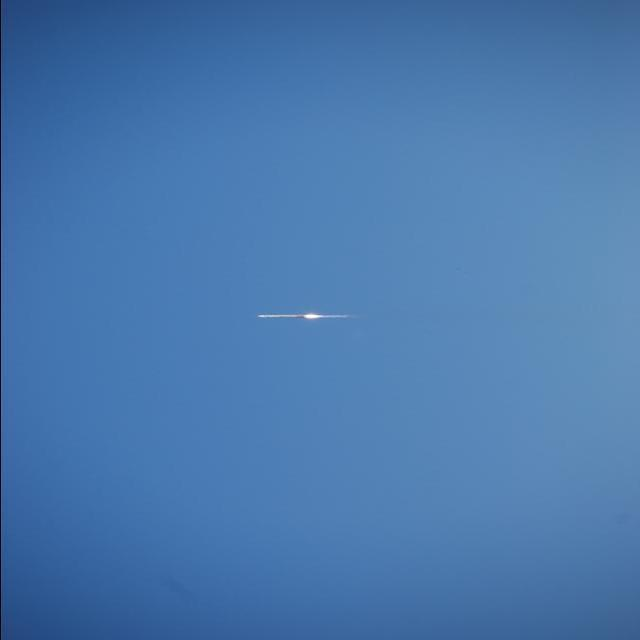missile: (250, 303, 307, 329)
